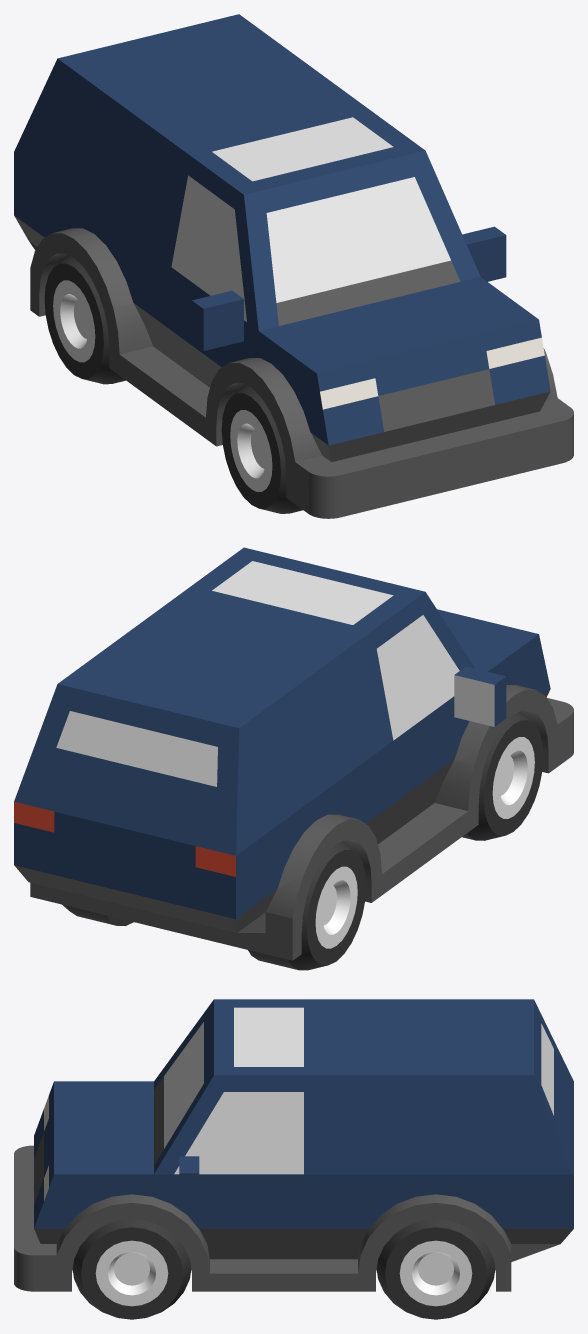
Rendered from suv_blue.fbx.
3 views of the same model, one above another, from view 1: azimuth 30°, elevation 25°; view 2: azimuth 150°, elevation 25°; view 3: azimuth 270°, elevation 25° (orthographic). The views are drawn at different scales.
Parts seen in each view (by area): view 1: suvLuxury; view 2: suvLuxury; view 3: suvLuxury.
Part boxes in pixels (<box>): suvLuxury: <box>14,14,573,518</box>; suvLuxury: <box>14,547,573,970</box>; suvLuxury: <box>14,999,573,1319</box>.
Bounding box in the file's own units: 11.25 × 9.75 × 21.
